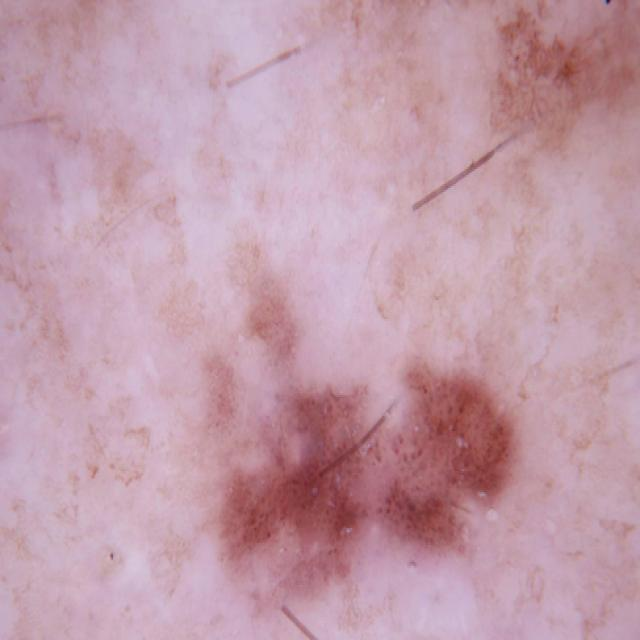Carcinoma: (224, 366, 568, 614)
